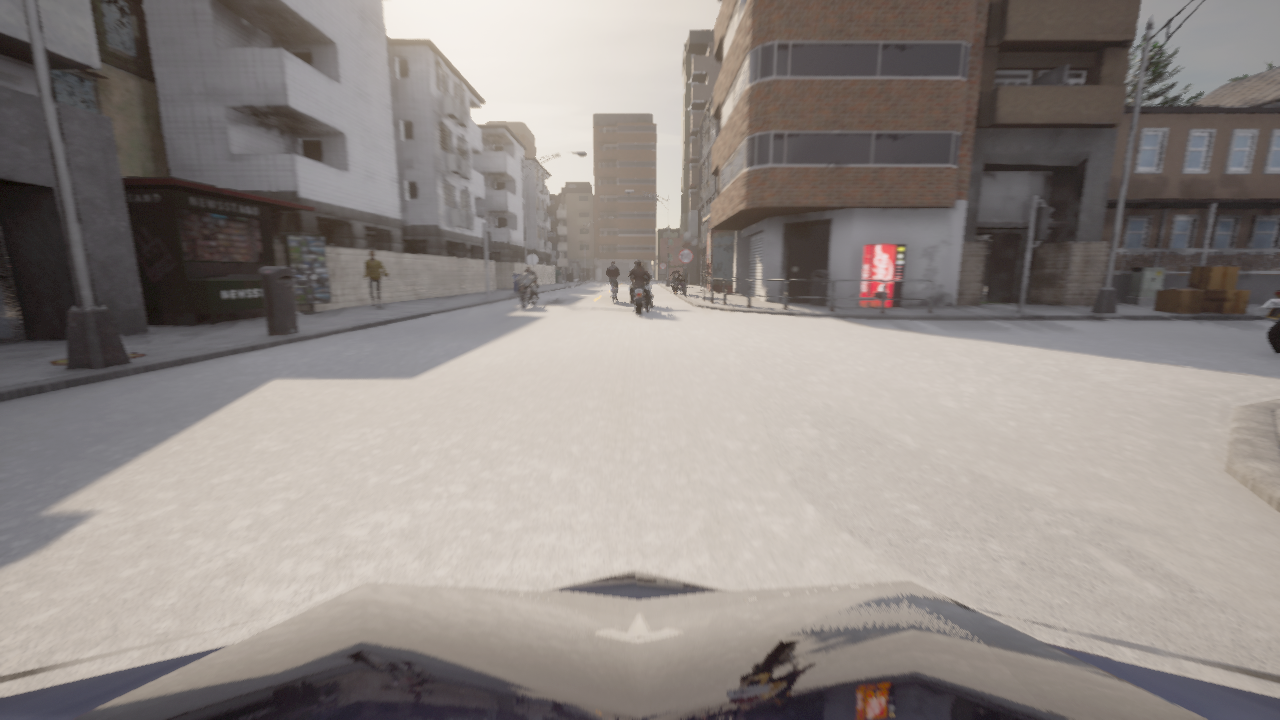cyclist: (0, 569, 1279, 719), (1259, 291, 1279, 354), (513, 273, 540, 308), (627, 271, 647, 313), (633, 276, 653, 302), (666, 272, 684, 294), (611, 283, 617, 301)
pedestrian: (364, 249, 389, 308)
